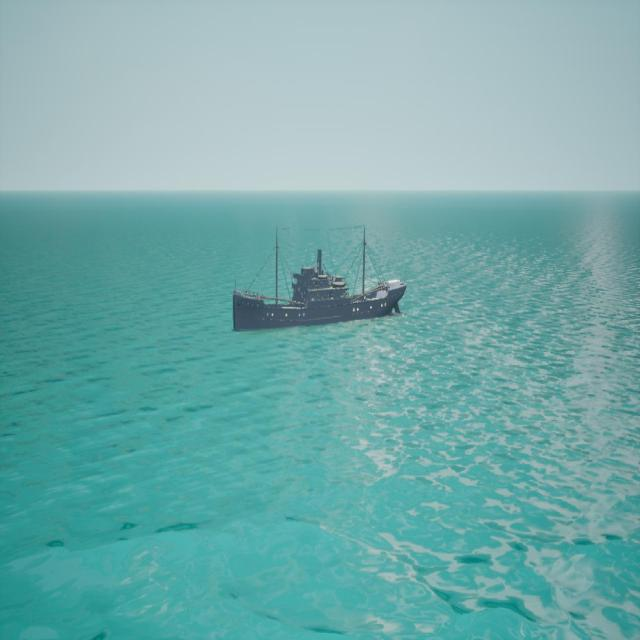fishing ship: (232, 225, 411, 334)
